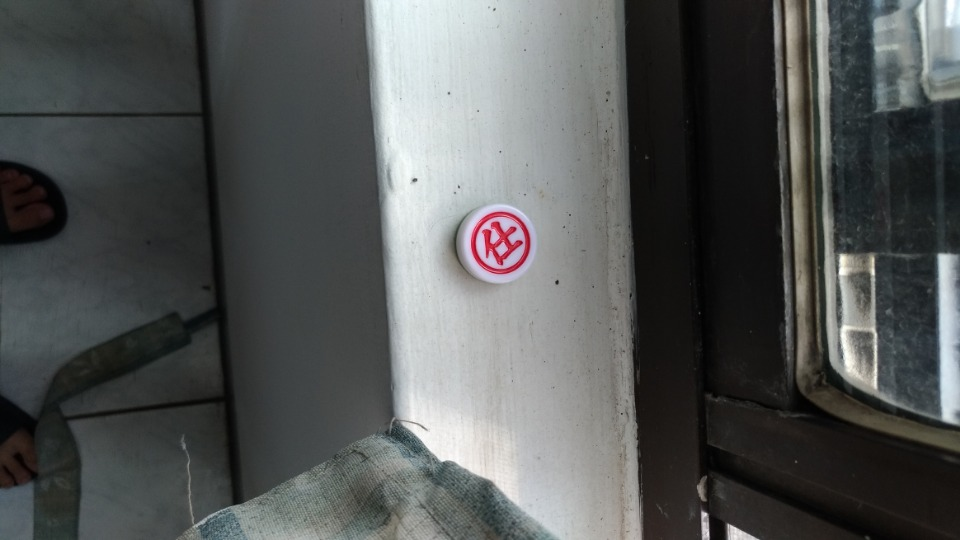r-advisor: (448, 200, 552, 292)
